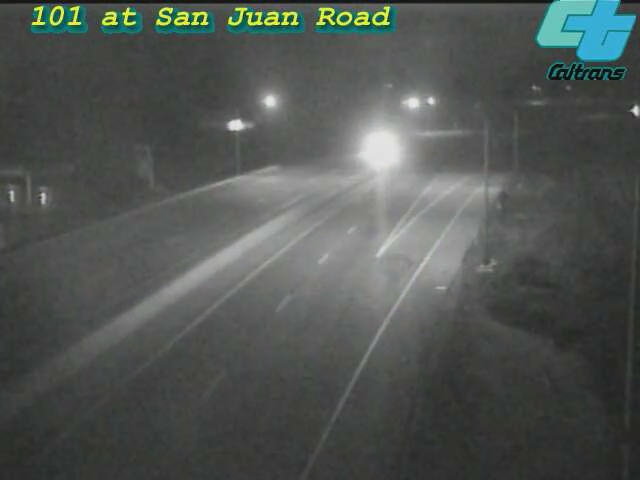vehicle: (351, 125, 401, 175)
